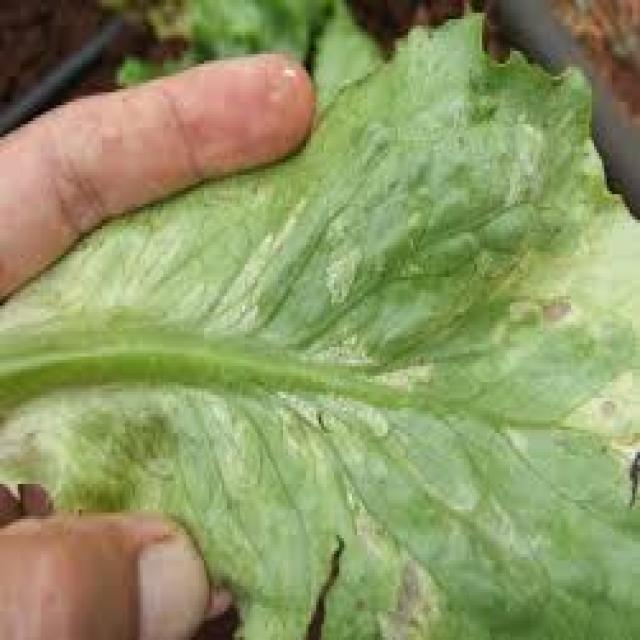Sick Lettuce: (0, 6, 637, 636)
